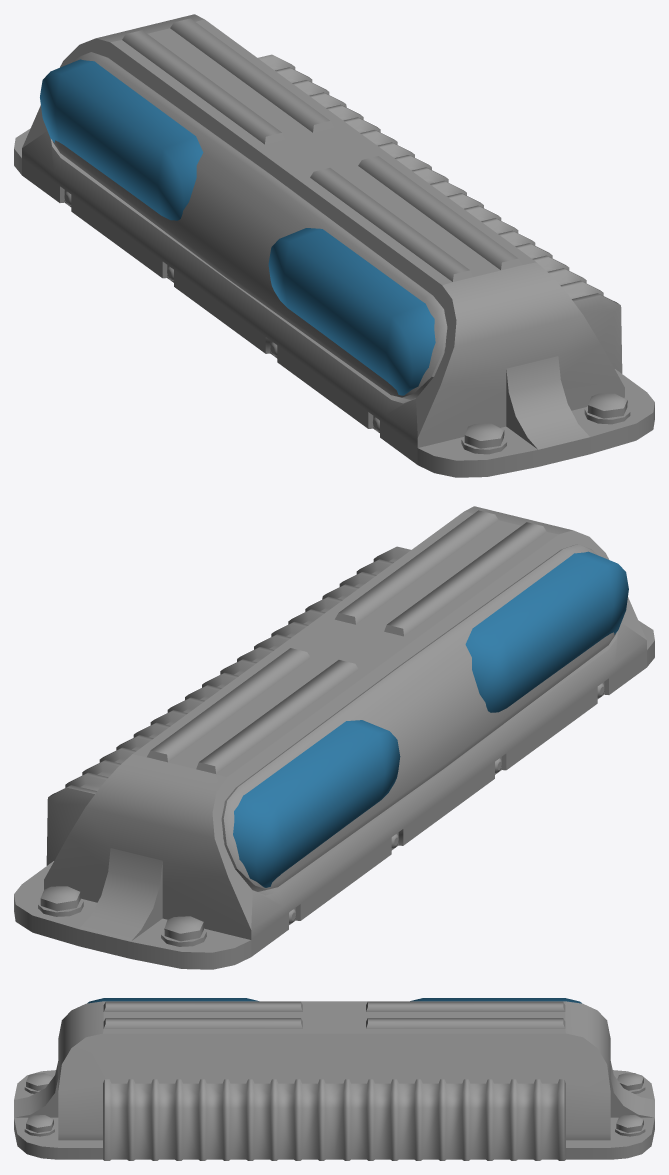
File: Lamp_Floor_Medium_Scifi_A.fbx
3 views of the same model, one above another, from view 1: azimuth 30°, elevation 25°; view 2: azimuth 150°, elevation 25°; view 3: azimuth 270°, elevation 25° (orthographic). The views are drawn at different scales.
Parts seen in each view (by area): view 1: Geom_Lamp_Floor_Medium_Scifi_A_Body_LOD00, Geom_Lamp_Floor_Medium_Scifi_A_Emissive_GI; view 2: Geom_Lamp_Floor_Medium_Scifi_A_Body_LOD00, Geom_Lamp_Floor_Medium_Scifi_A_Emissive_GI; view 3: Geom_Lamp_Floor_Medium_Scifi_A_Body_LOD00, Geom_Lamp_Floor_Medium_Scifi_A_Emissive_GI.
Part boxes in pixels (bbox=[...]): Geom_Lamp_Floor_Medium_Scifi_A_Body_LOD00: bbox=[14, 14, 654, 477]; Geom_Lamp_Floor_Medium_Scifi_A_Emissive_GI: bbox=[40, 59, 435, 395]; Geom_Lamp_Floor_Medium_Scifi_A_Body_LOD00: bbox=[14, 506, 654, 969]; Geom_Lamp_Floor_Medium_Scifi_A_Emissive_GI: bbox=[233, 551, 628, 887]; Geom_Lamp_Floor_Medium_Scifi_A_Body_LOD00: bbox=[14, 1001, 654, 1160]; Geom_Lamp_Floor_Medium_Scifi_A_Emissive_GI: bbox=[87, 998, 581, 1003].
Size of what is drawn, in the model's own units: 115 by 68.94 by 385.
